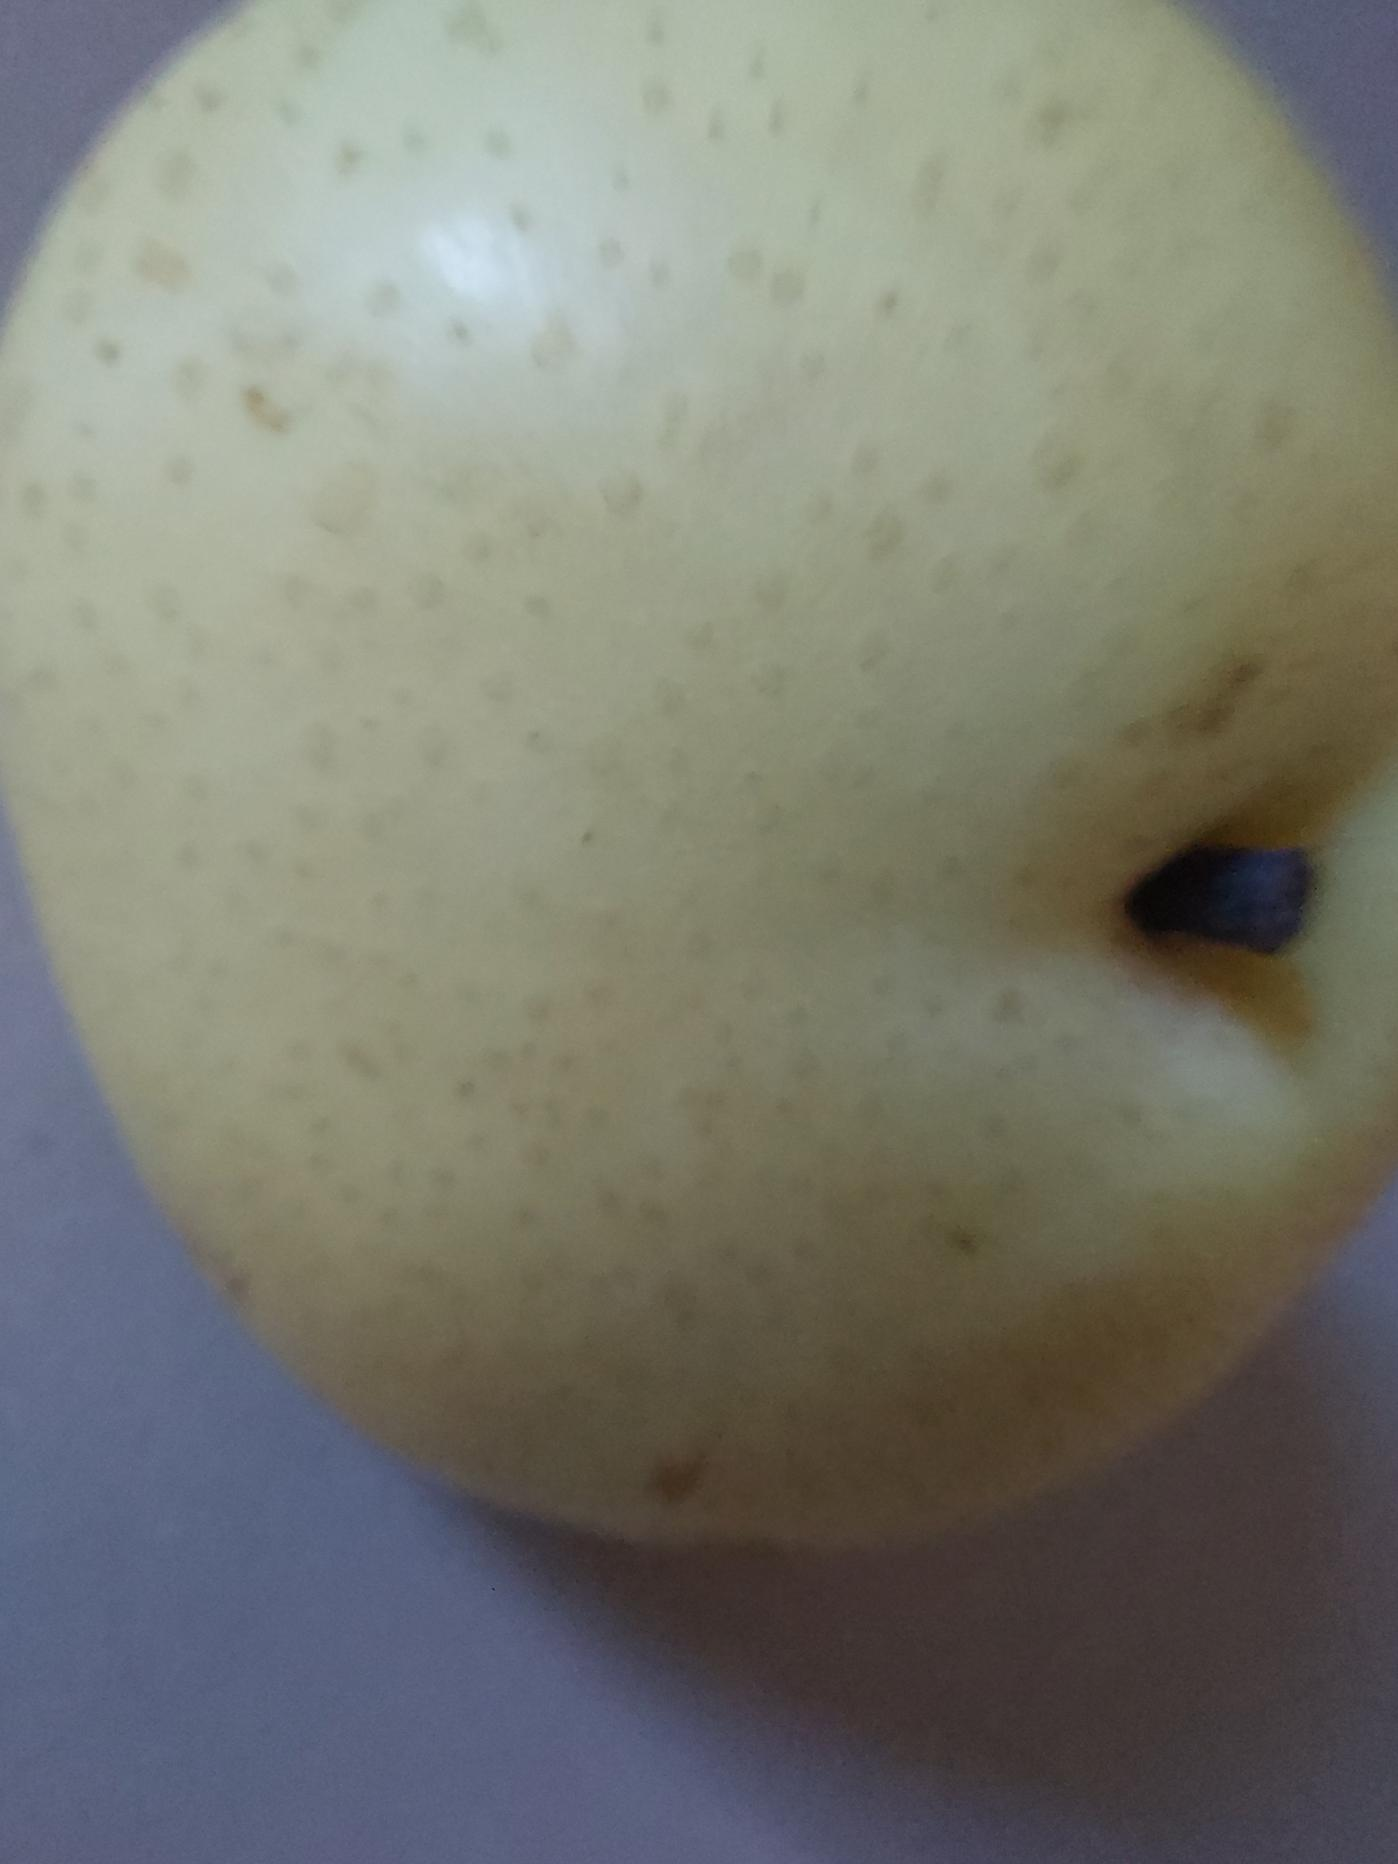Good Pear: (0, 0, 1398, 1563)
